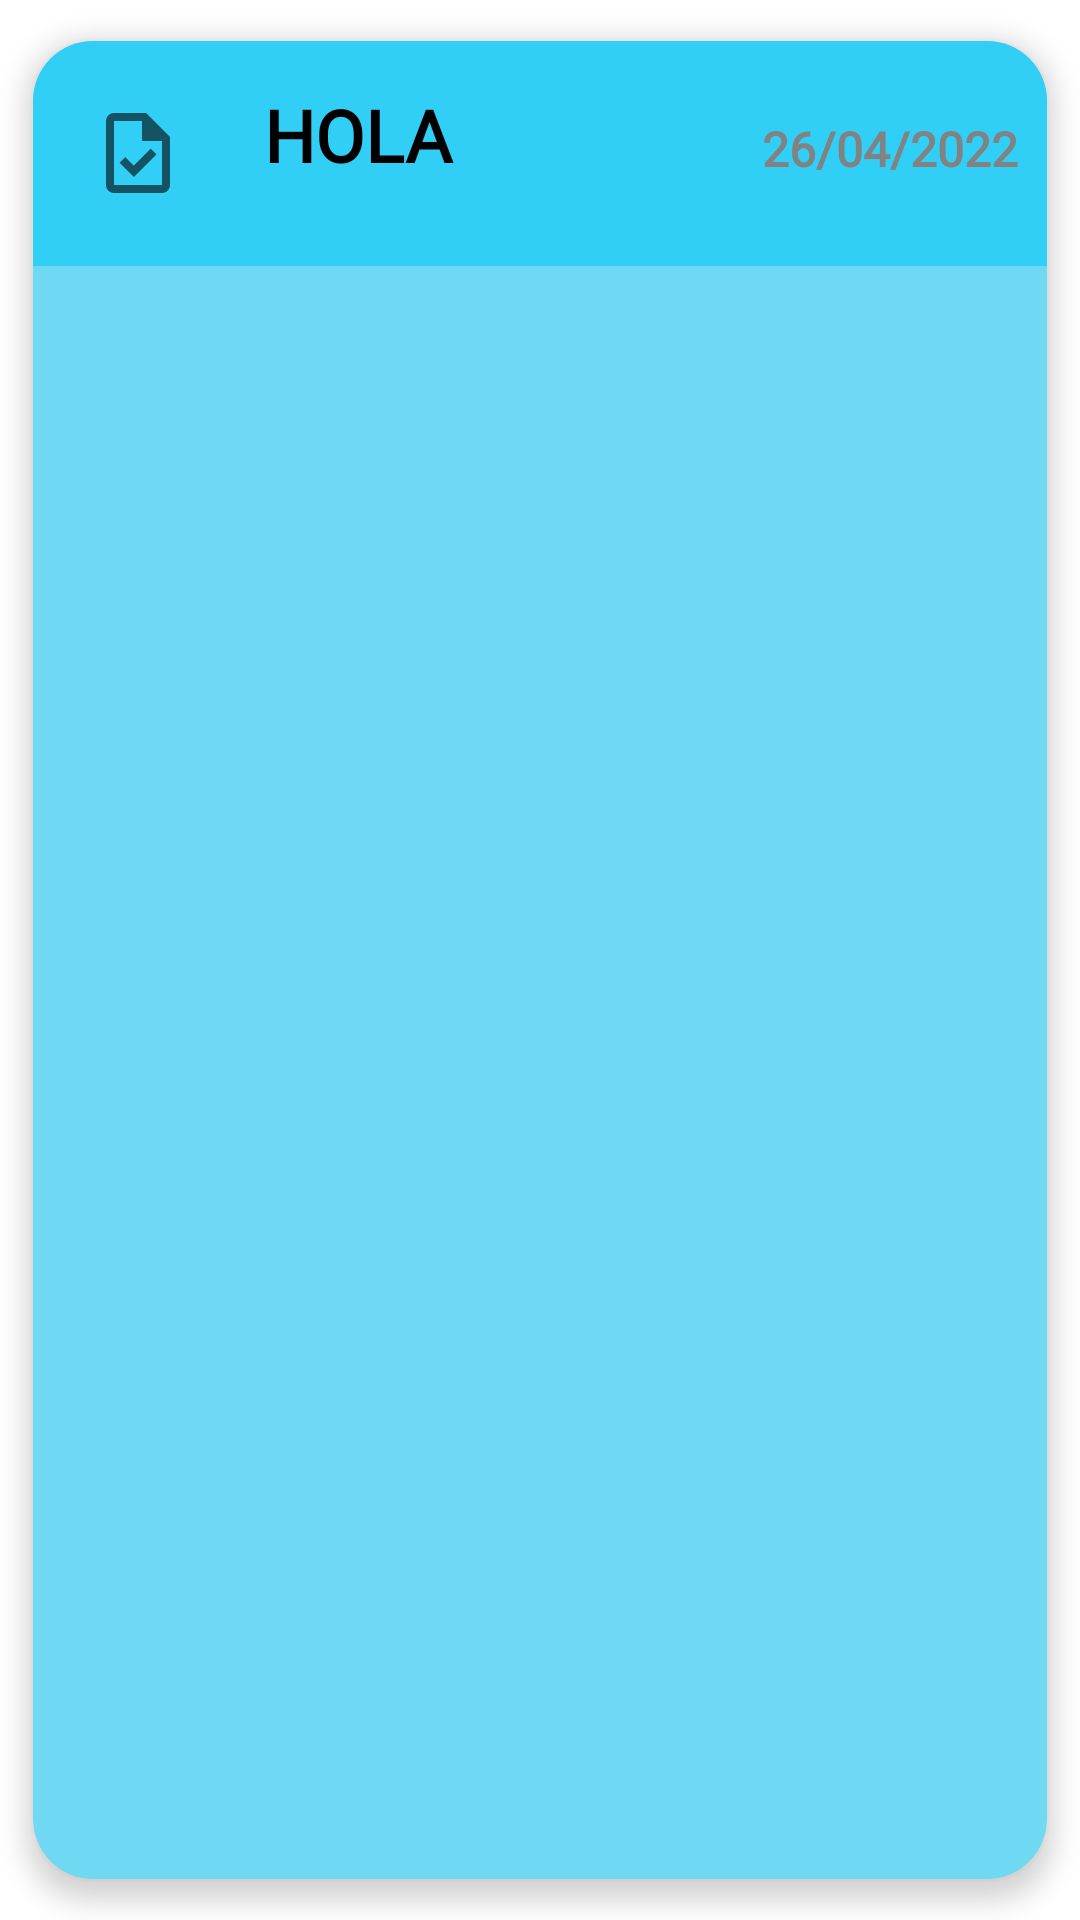

Screen size 1080*1920. Icon name, then its center in pixels as (x=x, y=y):
task: (x=138, y=153)
